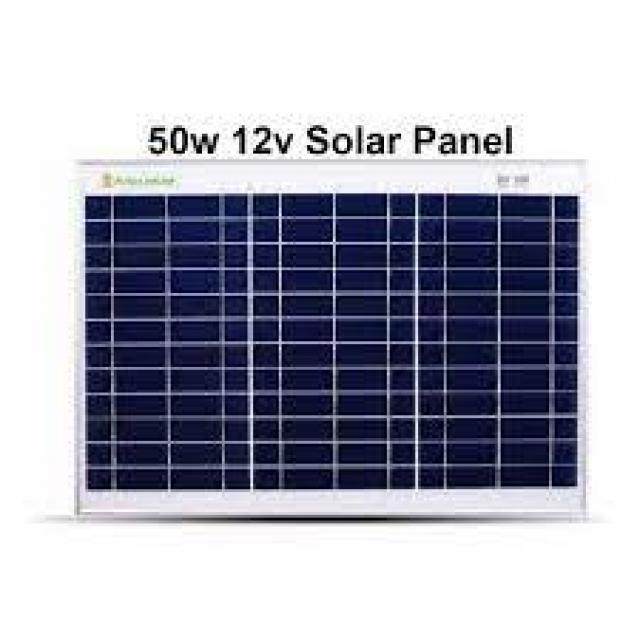no faulty: (46, 191, 580, 522)
